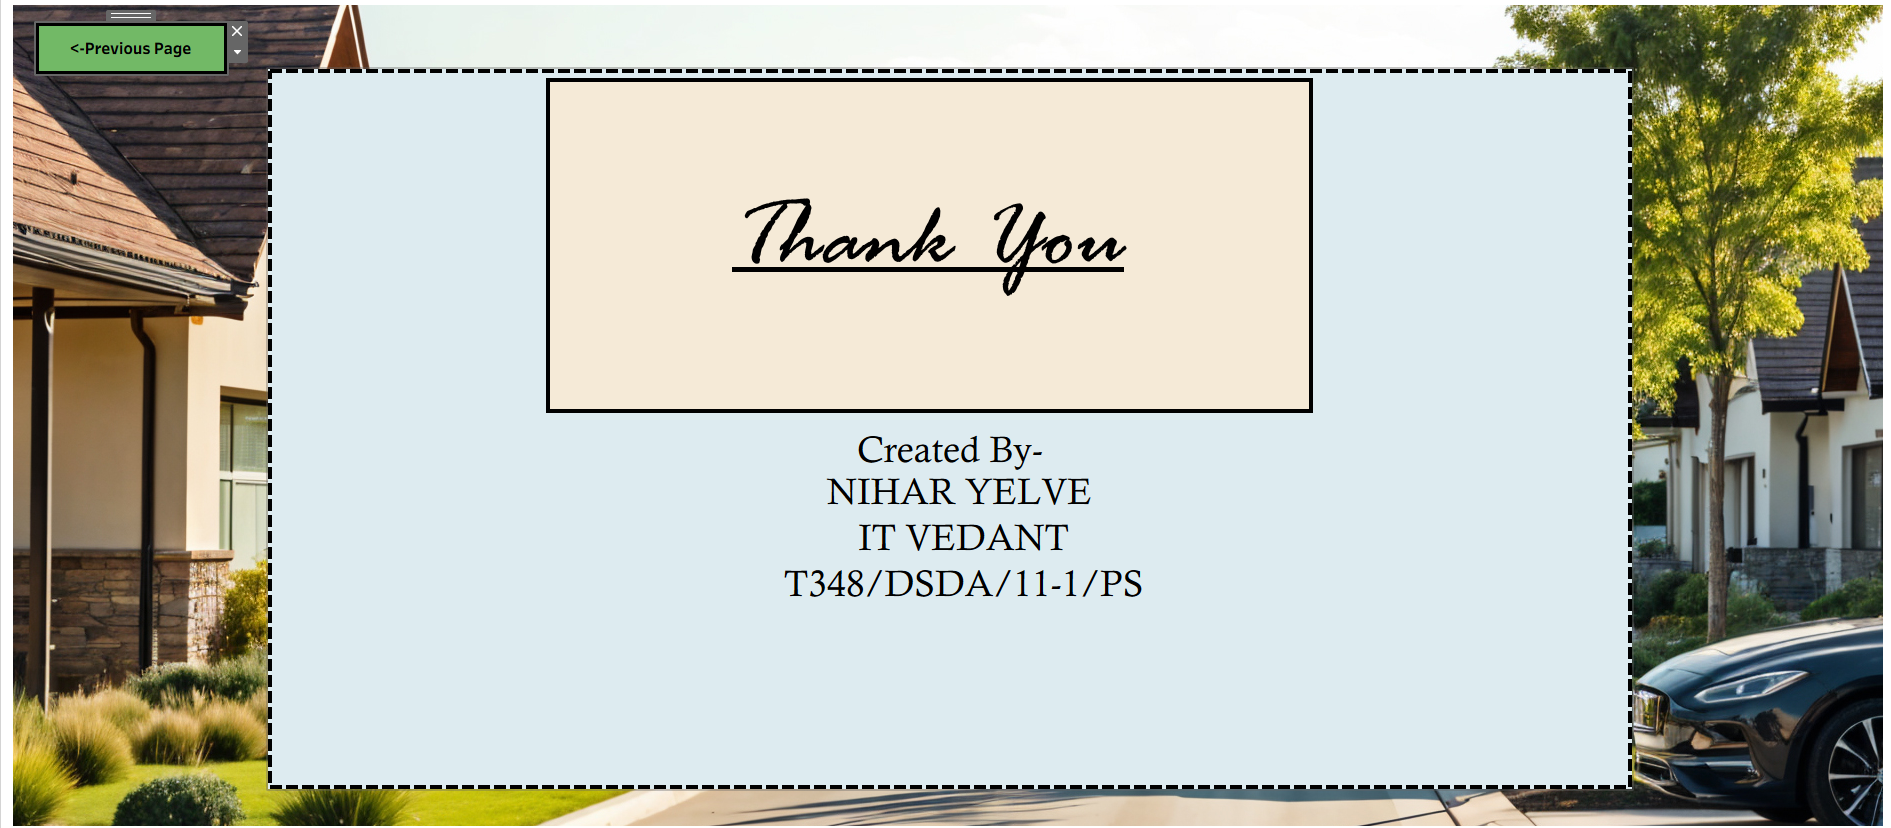

Layout of this report page (visuals, bound fields, positions):
{"tool":"tableau","page":{"name":"Thank You","canvas":[1000,1000],"units":"permille","ordinal":4},"visuals":[{"type":"image","param":"Image/representation-ecology-sustainability.jpg","box":[4.2,9.1,991.6,945.3]},{"type":"dashboard-object","box":[18.4,34.2,100.7,58.1]},{"type":"text","box":[141.2,86.7,720.1,821]},{"type":"text","box":[287.9,96.9,405.2,382]},{"type":"blank","box":[4.2,954.4,991.6,36.5]}]}

Visuals, with their boxes on the dashboard's canvas, which has no fixed pixel size, in thousandths of its width and height (x1, y1, x2, y2). These are canvas units, not pixel positions in the 1891x828 screenshot, which may show the page scaled, cropped or inside an application window:
image: 4/9/996/954
dashboard-object: 18/34/119/92
text: 141/87/861/908
text: 288/97/693/479
blank: 4/954/996/991
